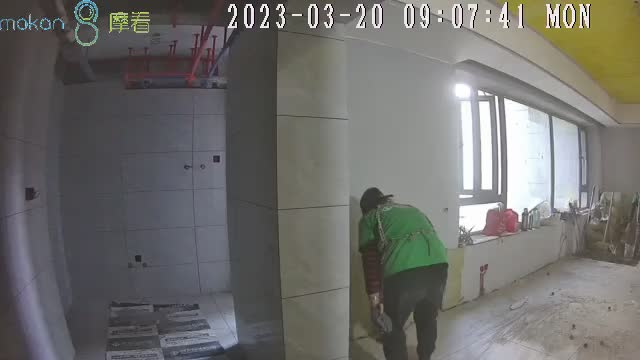people: (356, 187, 450, 360)
window: (459, 83, 601, 239)
